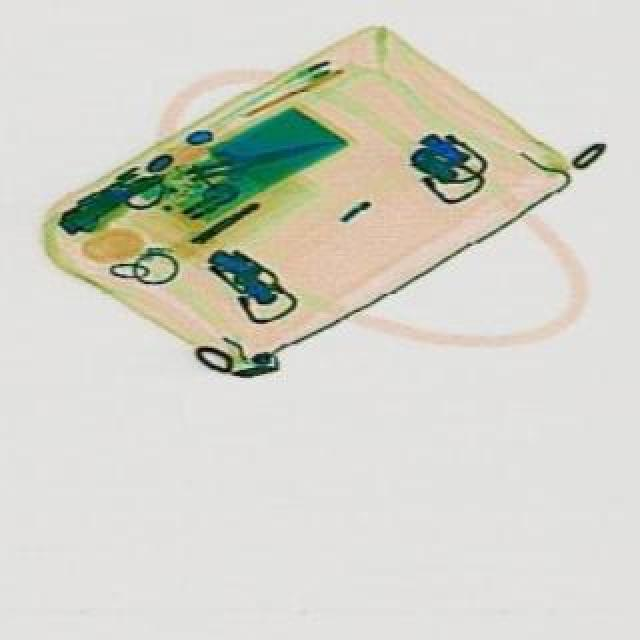knife: (188, 136, 340, 188)
